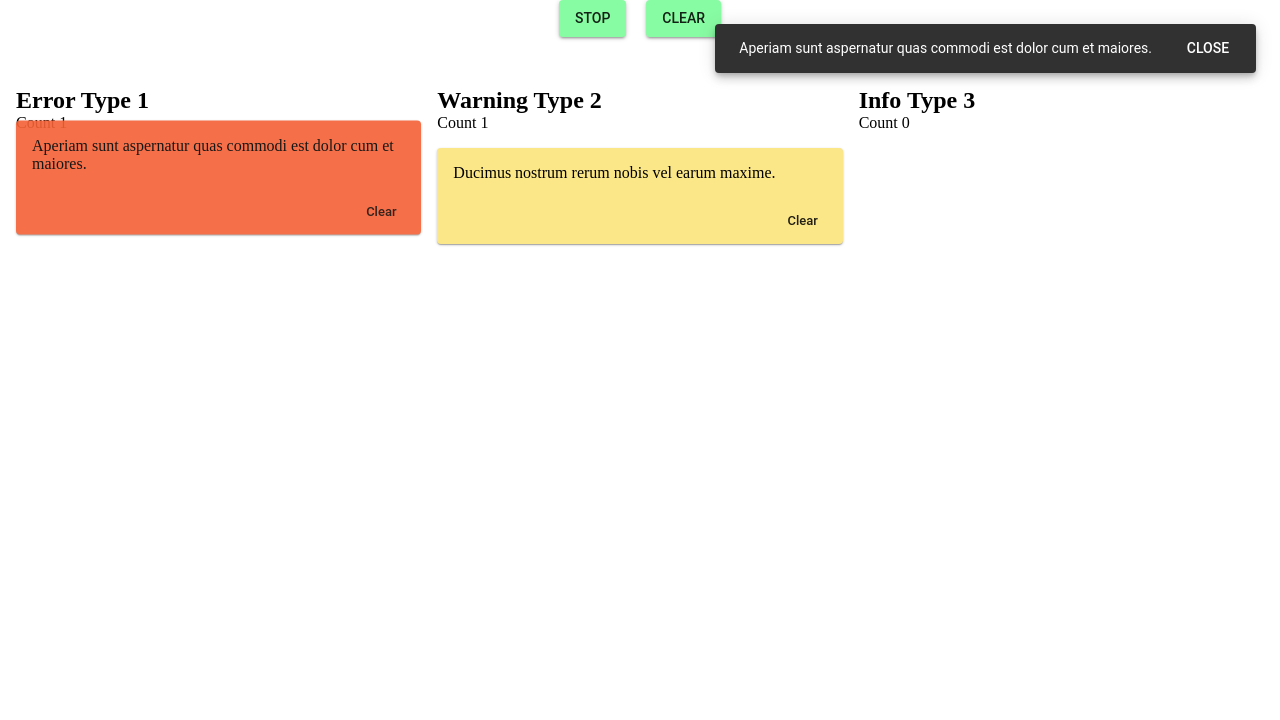
Test: Home Page › should clear all messages when clear button is clicked
Click the button with test id "clear-btn". click: (684, 18)
box: [646, 0, 721, 36]
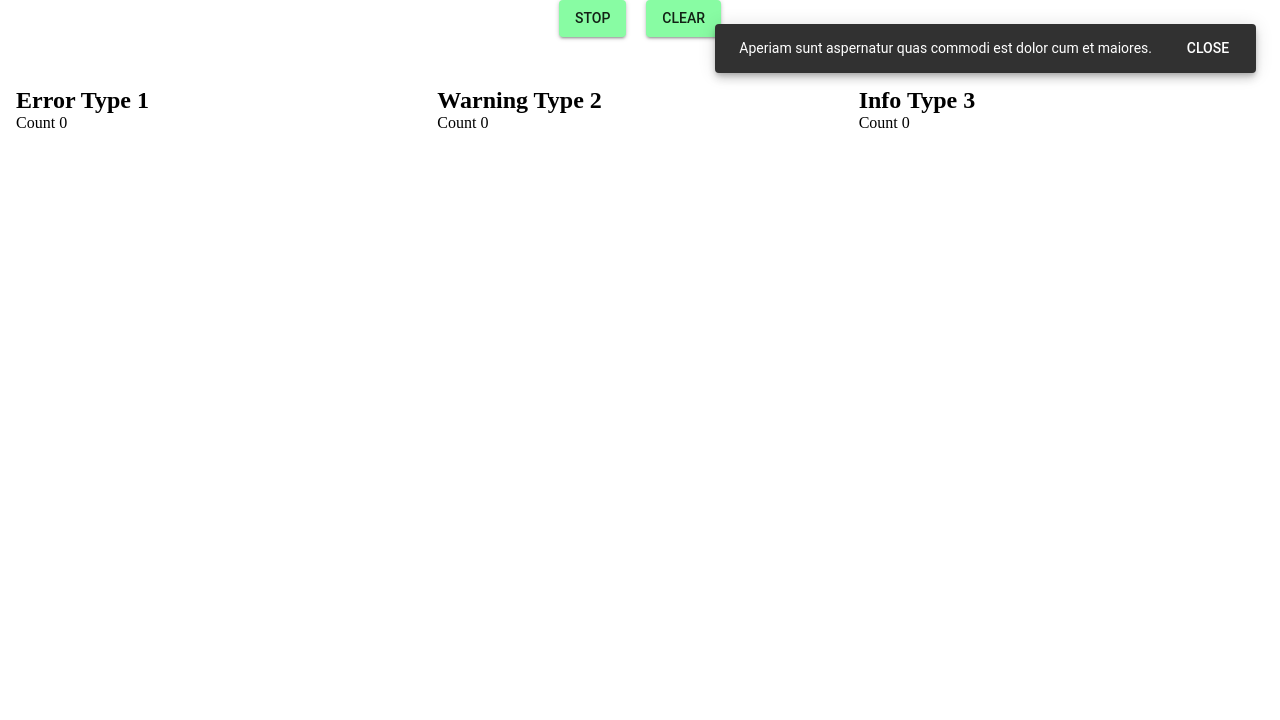
Expected: no elements with test id "message-card" are shown
